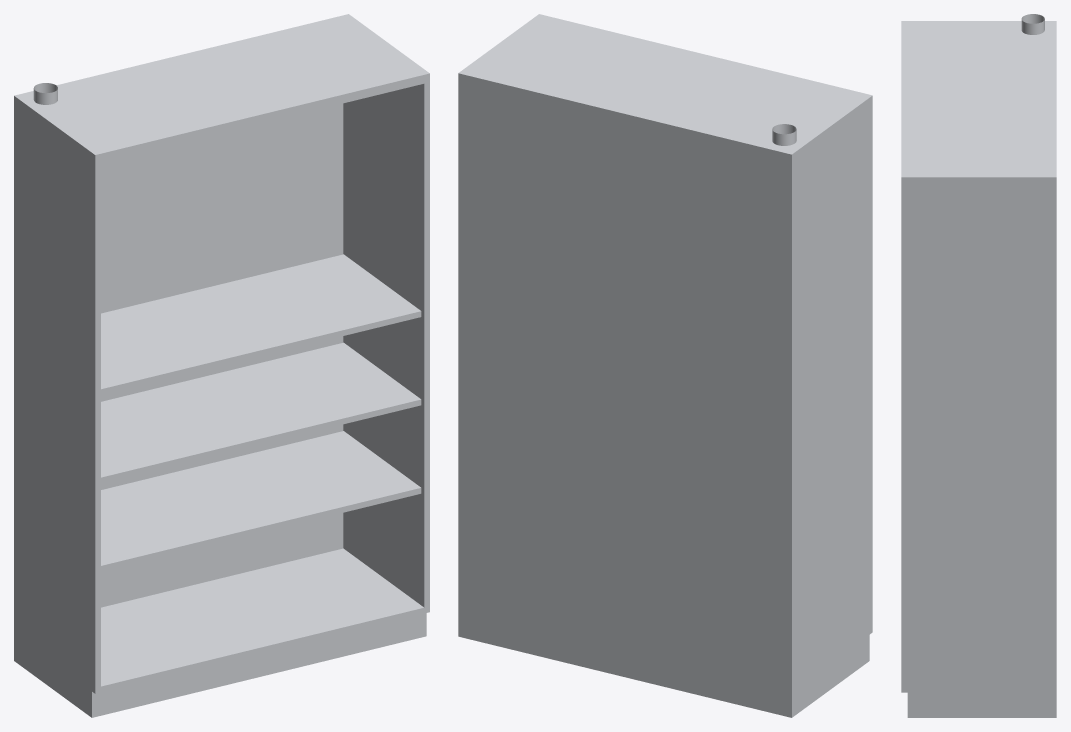
The picture shows the model from 3 angles, left to right: view 1: azimuth 30°, elevation 25°; view 2: azimuth 150°, elevation 25°; view 3: azimuth 270°, elevation 25°; orthographic projection. The views are drawn at different scales.
Parts seen in each view (by area): view 1: _375-046.dwg (×4); view 2: _375-046.dwg; view 3: _375-046.dwg (×2).
Part boxes in pixels (x1,y1,x2,y2): _375-046.dwg (×4): (14,14,429,717); _375-046.dwg: (458,14,872,717); _375-046.dwg (×2): (901,14,1056,717).
Size of the model in its own units: 46.85 by 19.69 by 77.17.
